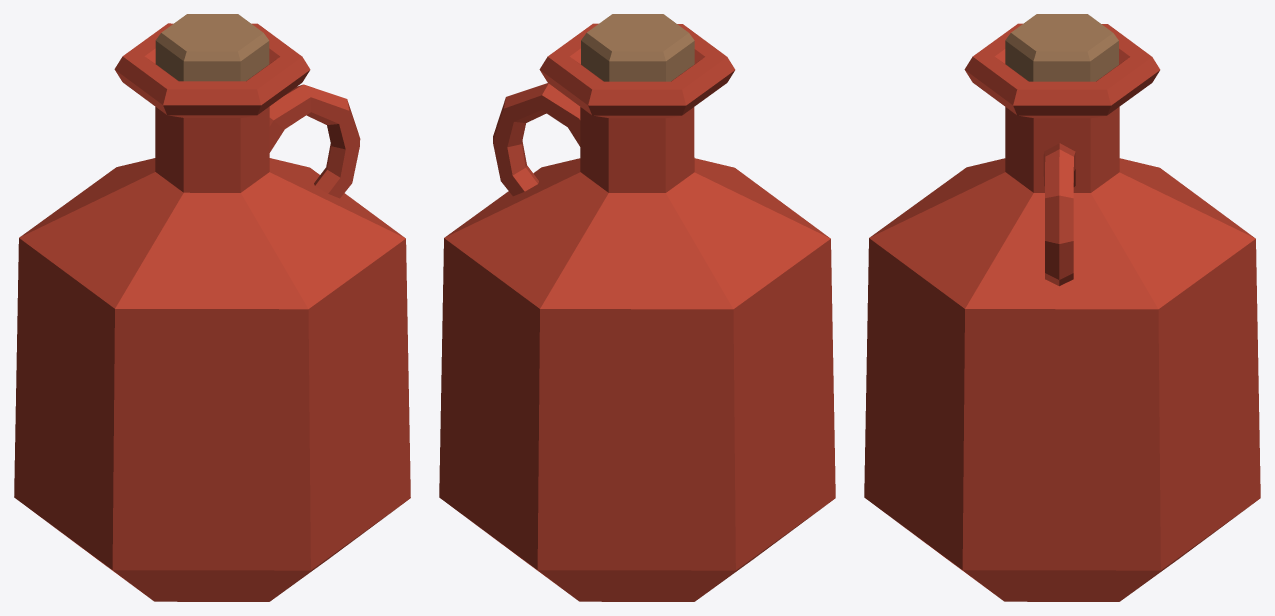
Rendered from Red_Potion_4.fbx.
3 renders of one model, left to right at view 1: azimuth 30°, elevation 25°; view 2: azimuth 150°, elevation 25°; view 3: azimuth 270°, elevation 25°, orthographic.
Parts seen in each view (by area): view 1: Red_Potion_4; view 2: Red_Potion_4; view 3: Red_Potion_4.
Boxes of the visible parts, <box> form: Red_Potion_4: <box>14,14,410,601</box>; Red_Potion_4: <box>439,14,835,601</box>; Red_Potion_4: <box>864,14,1260,601</box>.
Size of the model in its own units: 23.11 by 39.04 by 26.62.
